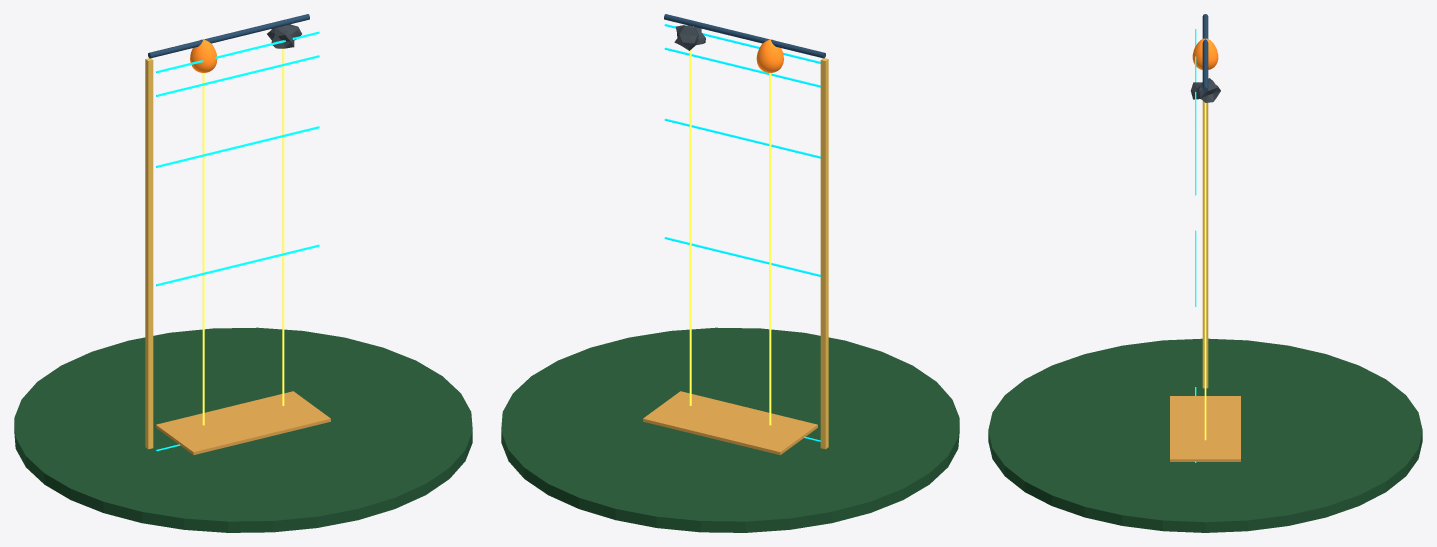
File: bai3_roi_tu_do.glb
The picture shows the model from 3 angles, left to right: view 1: azimuth 30°, elevation 25°; view 2: azimuth 150°, elevation 25°; view 3: azimuth 270°, elevation 25°; orthographic projection. The views are drawn at different scales.
Parts seen in each view (by area): view 1: Hình Trụ, Khối Lập Phương, Khối Lập Phương.001, Path_Rock, Path_Egg, Hình Trụ.001, Egg_Object, Rock_Object; view 2: Hình Trụ, Khối Lập Phương, Khối Lập Phương.001, Path_Rock, Path_Egg, Hình Trụ.001, Egg_Object, Rock_Object; view 3: Hình Trụ, Khối Lập Phương, Khối Lập Phương.001, Path_Rock, Hình Trụ.001, Egg_Object.
Part boxes in pixels (box(x1,y1,x2,y2)): Hình Trụ: box(14, 327, 472, 532); Khối Lập Phương: box(156, 391, 330, 455); Khối Lập Phương.001: box(145, 58, 153, 449); Path_Rock: box(282, 48, 284, 405); Path_Egg: box(202, 73, 204, 425); Hình Trụ.001: box(148, 14, 309, 58); Egg_Object: box(190, 39, 217, 72); Rock_Object: box(267, 24, 301, 48); Hình Trụ: box(501, 327, 959, 532); Khối Lập Phương: box(643, 391, 817, 455); Khối Lập Phương.001: box(820, 58, 828, 449); Path_Rock: box(689, 49, 691, 405); Path_Egg: box(769, 73, 771, 425); Hình Trụ.001: box(664, 14, 825, 58); Egg_Object: box(756, 39, 783, 72); Rock_Object: box(674, 25, 705, 50); Hình Trụ: box(988, 338, 1422, 532); Khối Lập Phương: box(1170, 396, 1240, 461); Khối Lập Phương.001: box(1202, 101, 1208, 388); Path_Rock: box(1204, 102, 1206, 440); Hình Trụ.001: box(1202, 14, 1208, 92); Egg_Object: box(1192, 38, 1218, 69).
Size of the model in its own units: 11 by 10.72 by 11.
